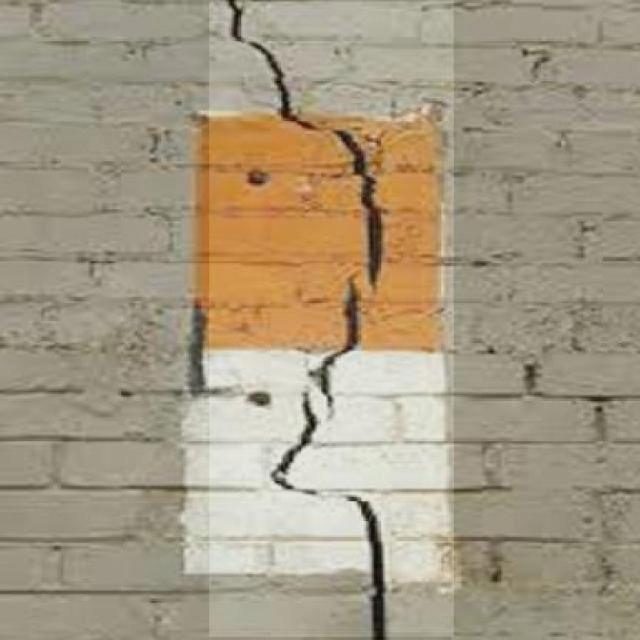crack: (206, 8, 462, 640)
